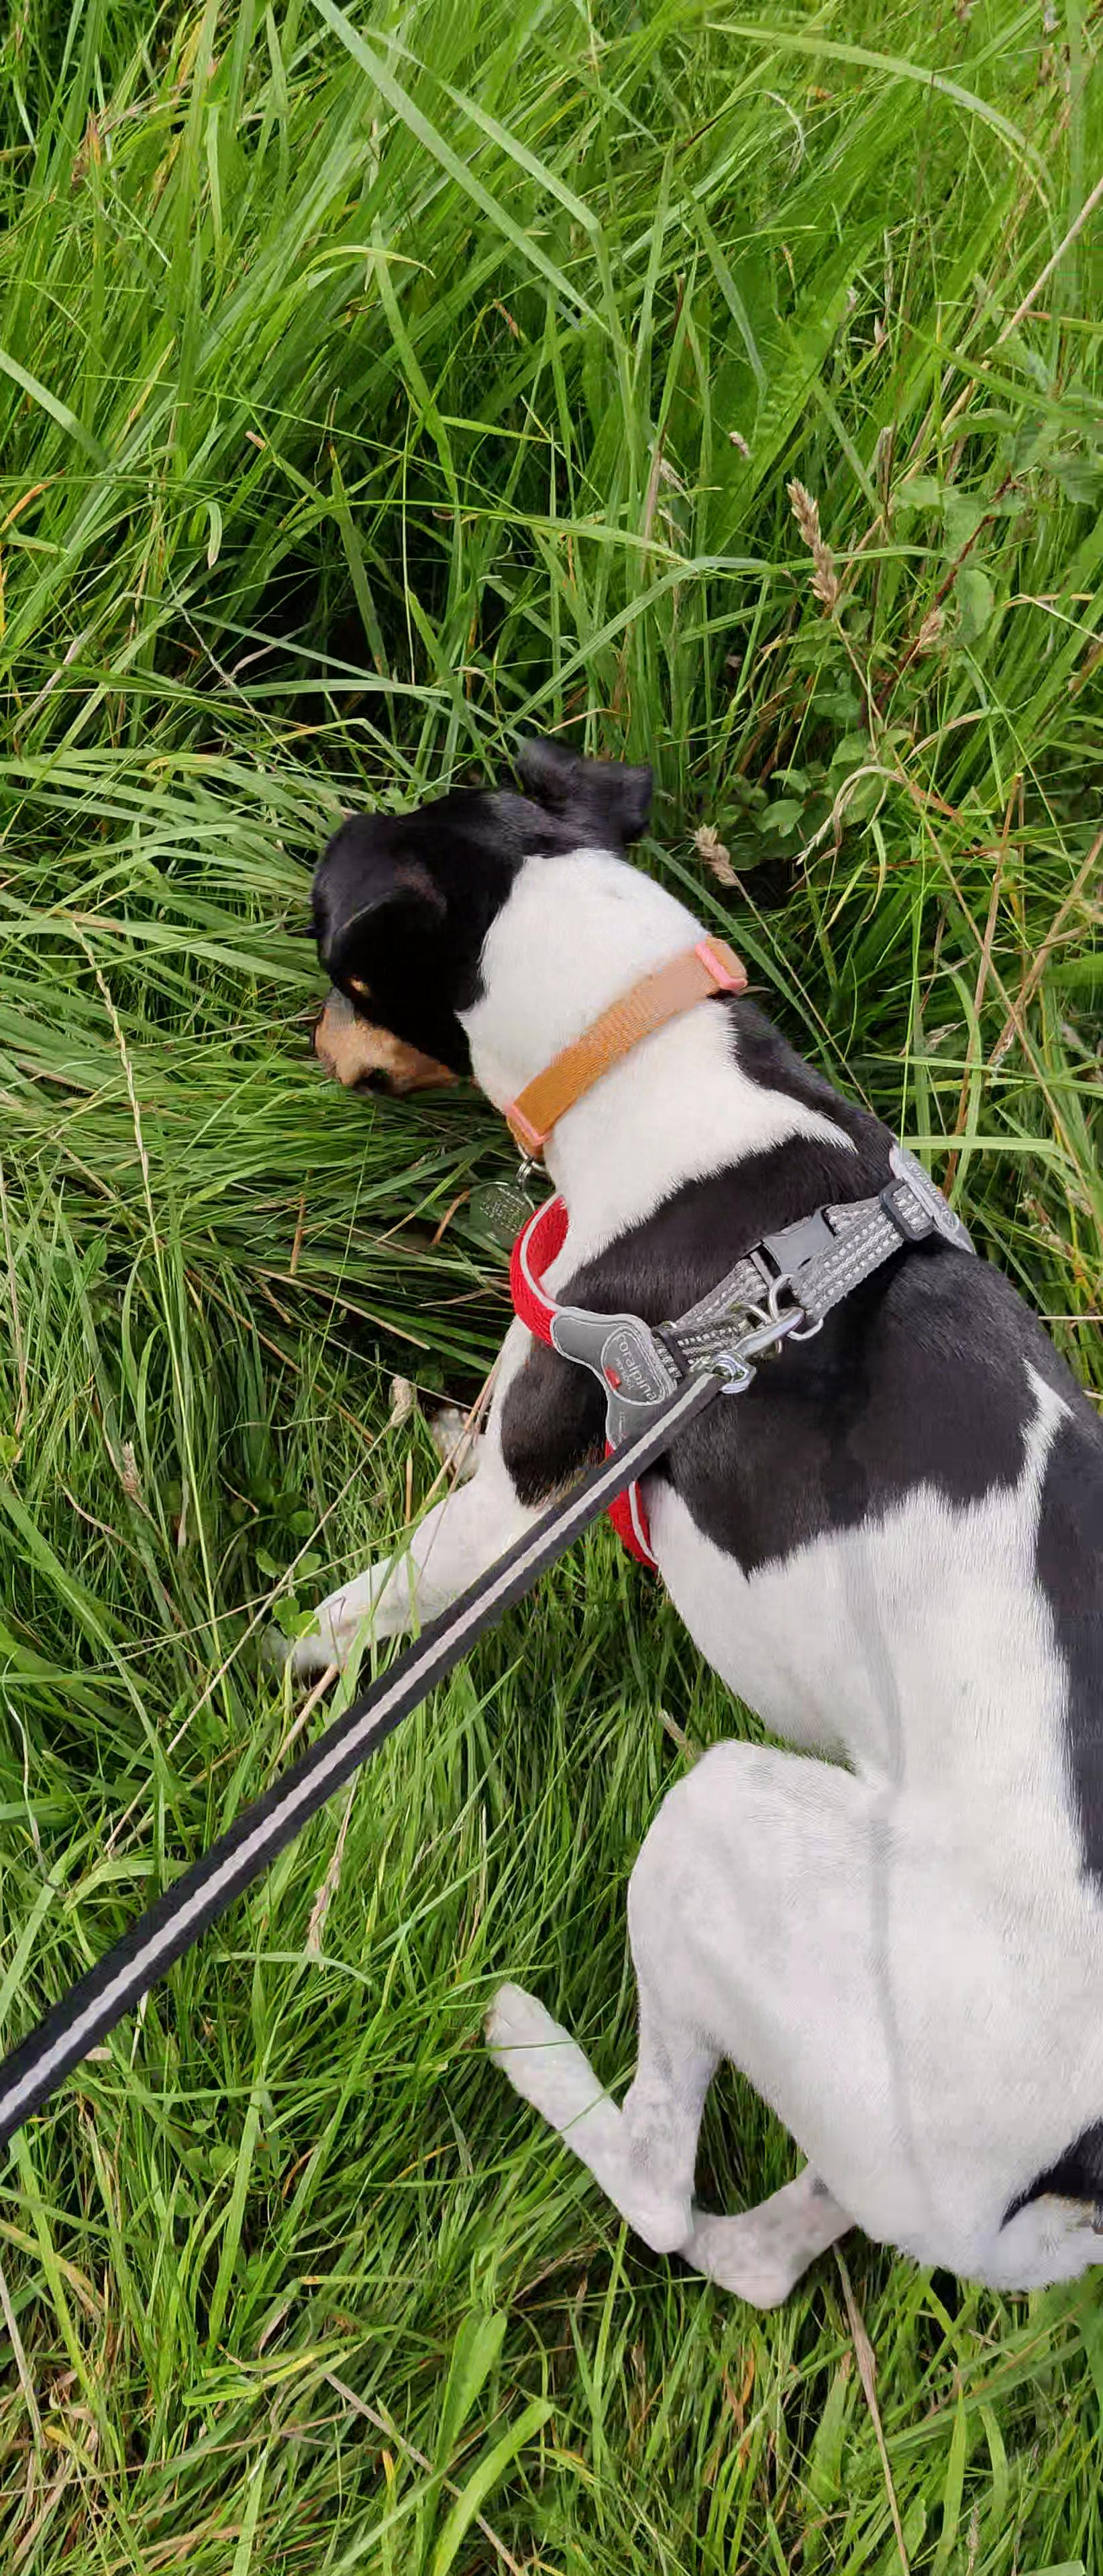Dog: (256, 703, 1103, 2364)
